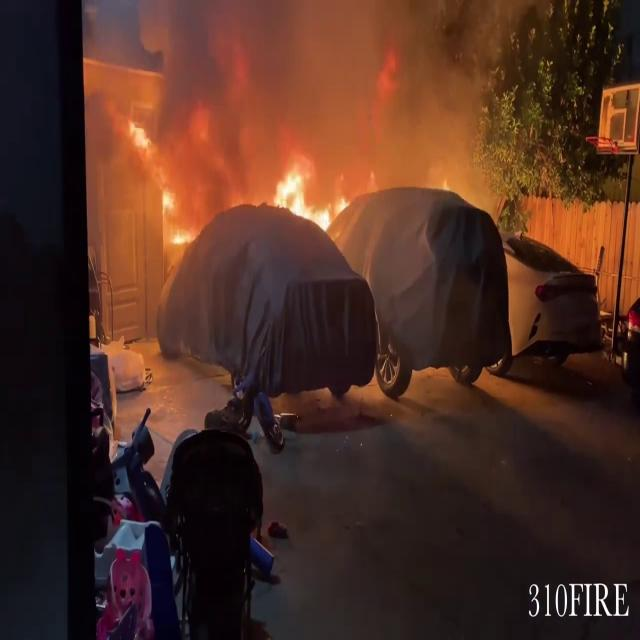Fire: (134, 111, 194, 245), (266, 160, 350, 240)
Smoke: (145, 0, 524, 187)
